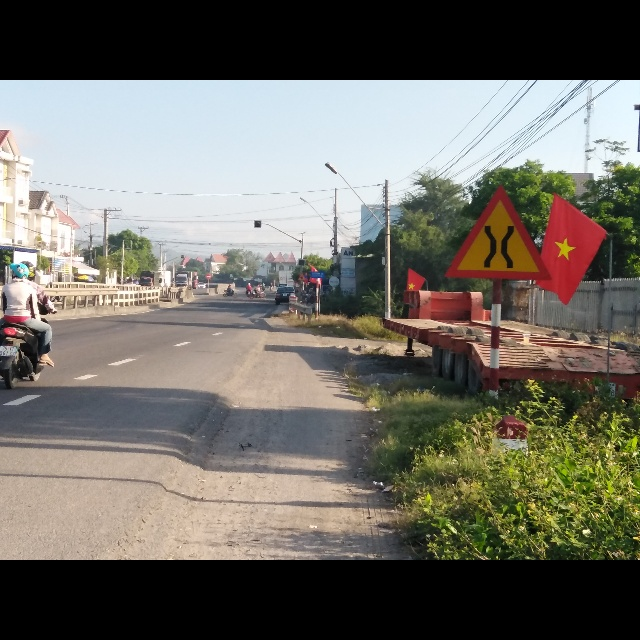Cầu hẹp: (444, 183, 551, 280)
